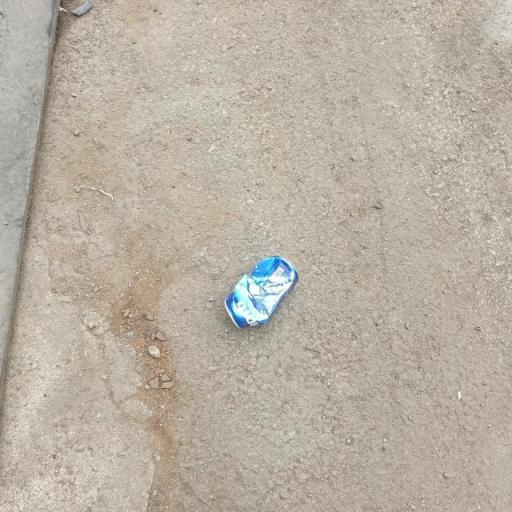metal: (206, 234, 302, 334)
